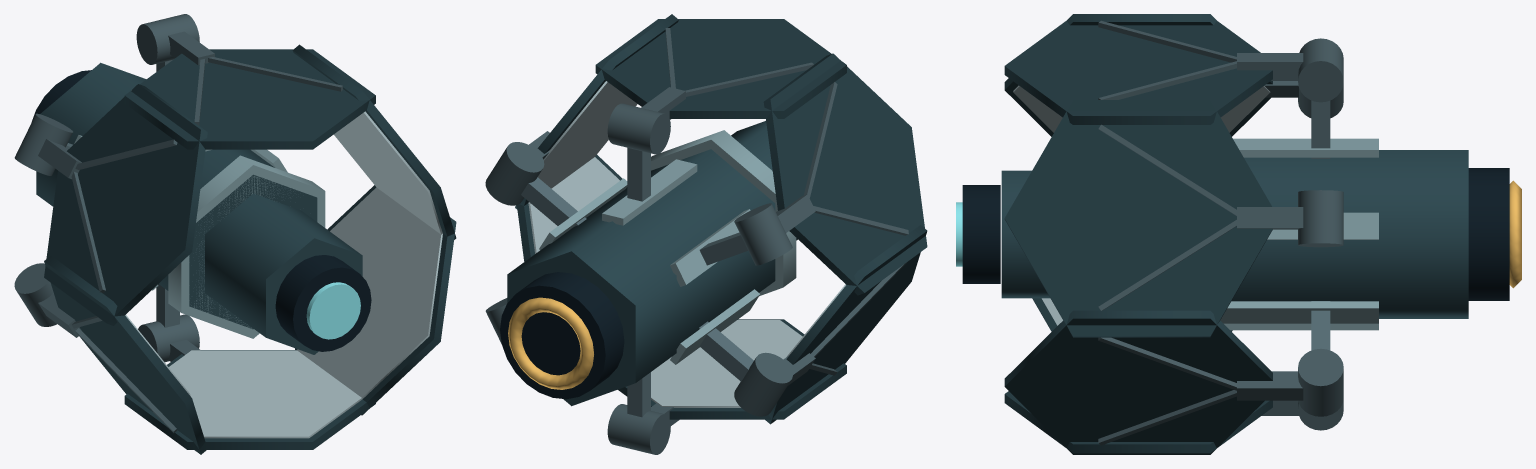
The model's file is satellite_d0_lod0.glb.
The picture shows the model from 3 angles, left to right: view 1: azimuth 30°, elevation 25°; view 2: azimuth 150°, elevation 25°; view 3: azimuth 270°, elevation 25°; orthographic projection. The views are drawn at different scales.
Parts seen in each view (by area): view 1: SATELLITE_BUS, PETAL_2_MESH, PETAL_1_MESH, PETAL_4_MESH, PETAL_5_MESH, PETAL_3_MESH, PETAL_6_MESH; view 2: SATELLITE_BUS, PETAL_2_MESH, PETAL_1_MESH, PETAL_4_MESH, PETAL_3_MESH, PETAL_6_MESH, PETAL_5_MESH; view 3: SATELLITE_BUS, PETAL_6_MESH, PETAL_5_MESH, PETAL_1_MESH, PETAL_2_MESH, PETAL_4_MESH.
Boxes of the visible parts, box(x1,y1,x2,y2) form: SATELLITE_BUS: box(31, 60, 371, 354); PETAL_2_MESH: box(14, 84, 207, 325); PETAL_1_MESH: box(124, 14, 375, 149); PETAL_4_MESH: box(124, 314, 375, 449); PETAL_5_MESH: box(295, 185, 456, 415); PETAL_3_MESH: box(14, 255, 206, 454); PETAL_6_MESH: box(292, 44, 456, 239); SATELLITE_BUS: box(500, 121, 797, 417); PETAL_2_MESH: box(734, 53, 927, 295); PETAL_1_MESH: box(595, 19, 846, 154); PETAL_4_MESH: box(607, 319, 846, 454); PETAL_3_MESH: box(734, 225, 927, 424); PETAL_6_MESH: box(485, 14, 678, 209); PETAL_5_MESH: box(485, 155, 622, 343); SATELLITE_BUS: box(956, 100, 1521, 350); PETAL_6_MESH: box(1004, 100, 1343, 337); PETAL_5_MESH: box(1004, 310, 1343, 454); PETAL_1_MESH: box(1004, 20, 1343, 124); PETAL_2_MESH: box(1004, 14, 1343, 136); PETAL_4_MESH: box(1004, 391, 1343, 453).
Size of what is drawn, in the model's own units: 2.31 by 2.14 by 2.97.
